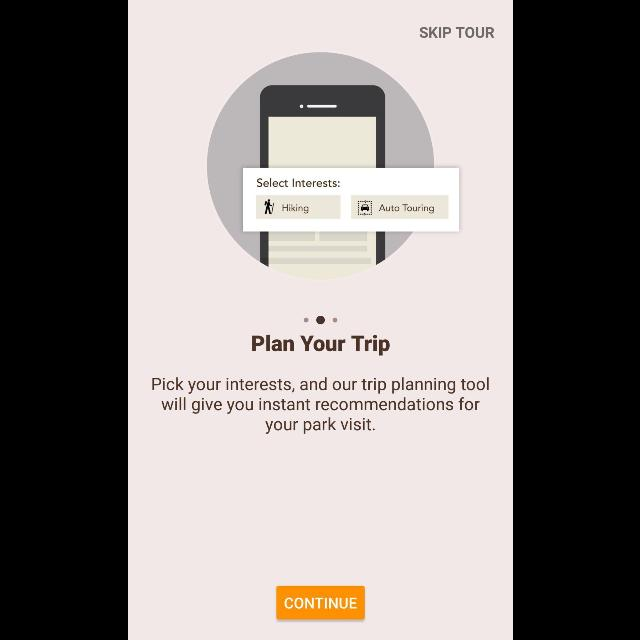image: (206, 52, 458, 280)
pageindicator: (303, 316, 337, 324)
text: (152, 378, 488, 434), (251, 334, 389, 356), (418, 28, 494, 38)
textbutton: (276, 586, 364, 620)
